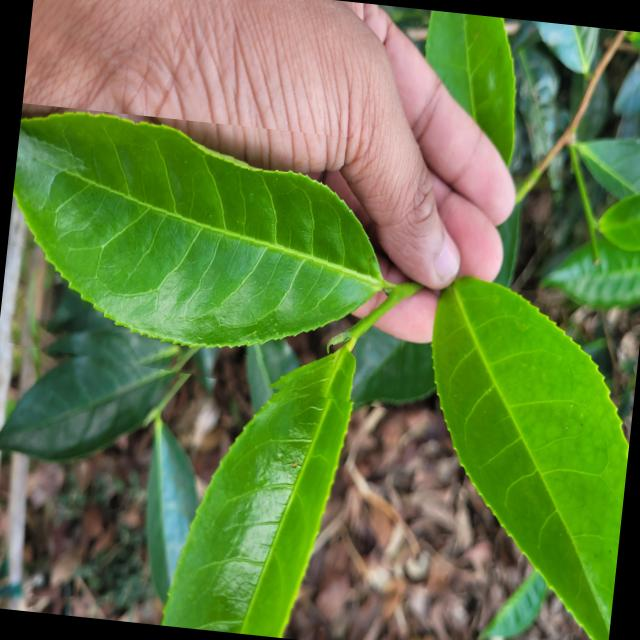Category D(7+ days, Not for Tea): (0, 103, 424, 410)
